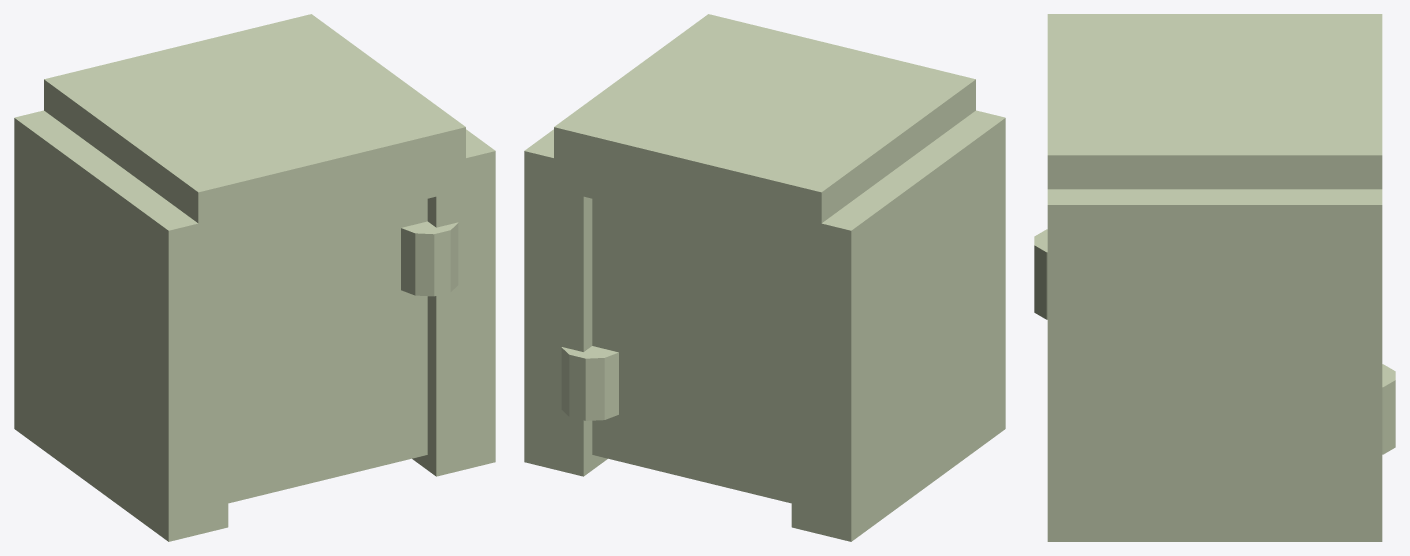
The model's file is furniture_signal_cantilever_end_cap.glb.
3 renders of one model, left to right at view 1: azimuth 30°, elevation 25°; view 2: azimuth 150°, elevation 25°; view 3: azimuth 270°, elevation 25°, orthographic. The views are drawn at different scales.
Visible parts, largest first — view 1: end_cap_shell, top_lip, back_plate, face_plate, bolt_upper; view 2: end_cap_shell, top_lip, back_plate, face_plate, bolt_lower; view 3: end_cap_shell, top_lip, face_plate, bolt_upper, bolt_lower.
Boxes of the visible parts, x1,y1,x2,y2 form: end_cap_shell: [22, 140, 427, 519]; top_lip: [44, 14, 465, 254]; back_plate: [14, 110, 228, 541]; face_plate: [412, 129, 495, 476]; bolt_upper: [401, 221, 458, 296]; end_cap_shell: [592, 140, 997, 519]; top_lip: [554, 14, 975, 254]; back_plate: [791, 110, 1005, 541]; face_plate: [524, 129, 607, 476]; bolt_lower: [561, 346, 618, 420]; end_cap_shell: [1066, 221, 1363, 524]; top_lip: [1047, 14, 1382, 189]; face_plate: [1047, 189, 1382, 541]; bolt_upper: [1034, 229, 1047, 319]; bolt_lower: [1382, 364, 1395, 454].
Bounding box in the file's own units: 0.22 × 0.22 × 0.1942.
